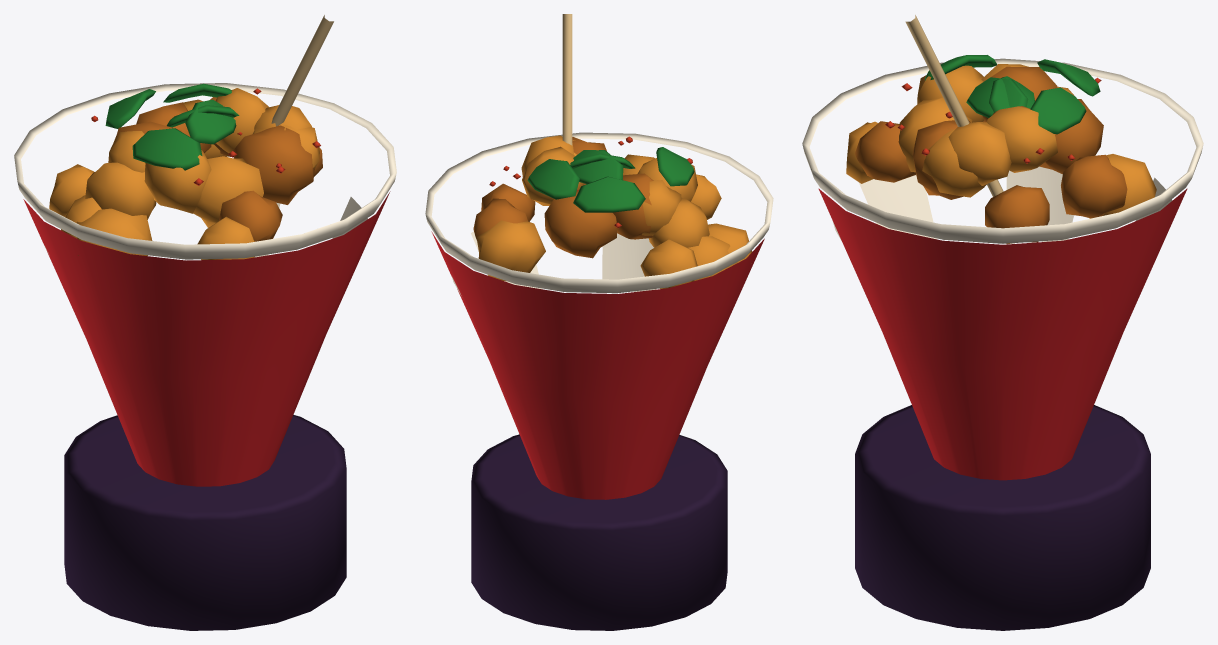
3 renders of one model, left to right at view 1: azimuth 30°, elevation 25°; view 2: azimuth 150°, elevation 25°; view 3: azimuth 270°, elevation 25°, orthographic. The views are drawn at different scales.
Visible parts, largest first — view 1: cone, stand, chicken (×14), cone_rim, basil (×5), pick; view 2: cone, stand, chicken (×14), cone_rim, basil (×4), cone_stripes, pick; view 3: cone, stand, chicken (×13), cone_rim, basil (×5), cone_stripes (×2), pick.
Boxes of the visible parts, x1,y1,x2,y2 form: cone: (23,191,390,486); stand: (64,415,346,630); chicken (×14): (49,88,319,259); cone_rim: (14,83,396,259); basil (×5): (105,83,239,170); pick: (271,15,333,126); cone: (431,231,764,499); stand: (471,434,727,630); chicken (×14): (473,135,752,288); cone_rim: (425,132,773,293); basil (×4): (527,147,694,212); cone_stripes: (602,233,656,291); pick: (562,14,572,145); cone: (818,188,1187,480); stand: (855,405,1150,630); chicken (×13): (846,65,1156,243); cone_rim: (802,58,1203,243); basil (×5): (925,55,1100,134); cone_stripes (×2): (859,166,1073,241); pick: (905,15,1003,196).
Bounding box in the file's own units: 0.095 × 0.155 × 0.095.
